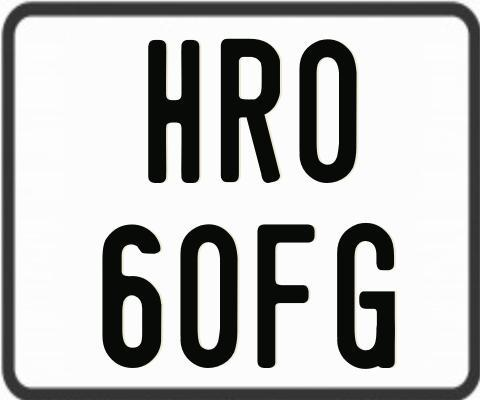0: (296, 38, 360, 183), (178, 221, 242, 365)
6: (99, 224, 160, 368)
F: (255, 223, 317, 370)
G: (336, 223, 396, 370)
H: (148, 39, 203, 182)
R: (221, 38, 281, 187)
